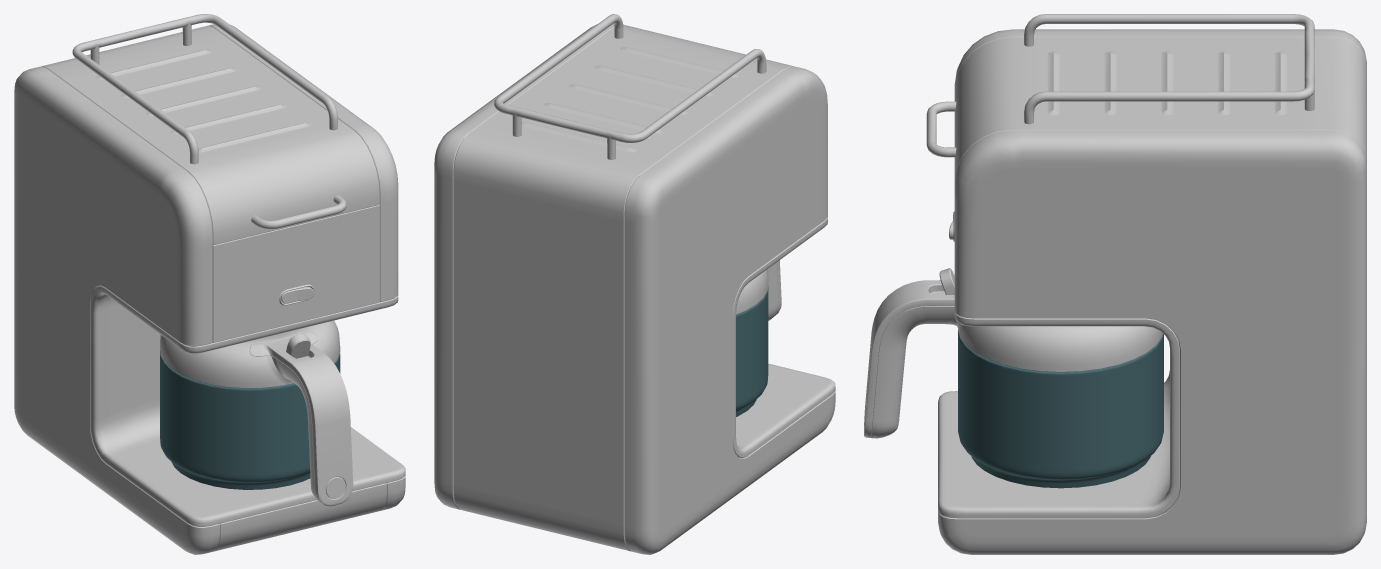
File: Coffee Machine.fbx
3 views of the same model, side by side, from view 1: azimuth 30°, elevation 25°; view 2: azimuth 150°, elevation 25°; view 3: azimuth 270°, elevation 25° (orthographic). The views are drawn at different scales.
Visible parts, largest first — view 1: Coffee_machine; view 2: Coffee_machine; view 3: Coffee_machine.
Boxes of the visible parts, x1=… form: Coffee_machine: x1=14, y1=14, x2=405, y2=554; Coffee_machine: x1=434, y1=14, x2=835, y2=554; Coffee_machine: x1=864, y1=14, x2=1366, y2=554.
Size of the model in its own units: 17 by 29.99 by 30.13.
